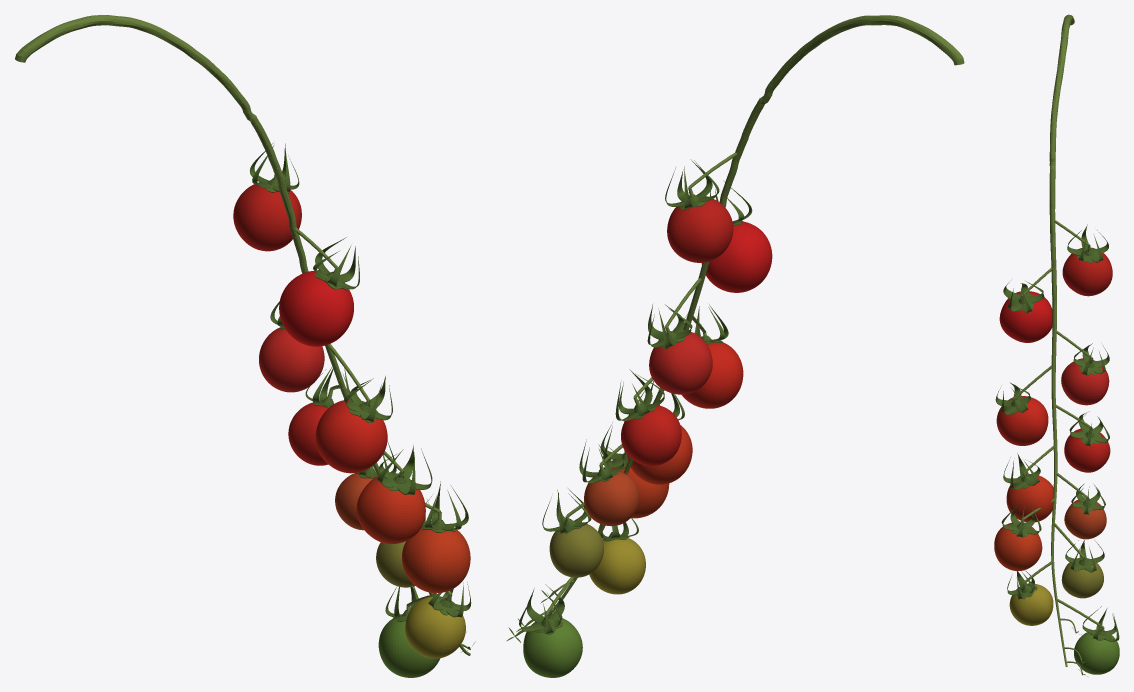
File: tomato_master_v10_cluster_curve_green.glb
3 views of the same model, side by side, from view 1: azimuth 30°, elevation 25°; view 2: azimuth 150°, elevation 25°; view 3: azimuth 270°, elevation 25° (orthographic). The views are drawn at different scales.
Parts seen in each view (by area): view 1: Fruit_02, Fruit_04, Fruit_08, Fruit_06, Fruit_01, Fruit_03, Truss_01_Peduncle, Fruit_10, Fruit_11, Rachis, Fruit_05, Fruit_07 (+1 smaller); view 2: Fruit_01, Fruit_02, Fruit_03, Fruit_05, Fruit_11, Truss_01_Peduncle, Fruit_10, Fruit_07, Fruit_09, Fruit_04, Rachis, Fruit_06 (+1 smaller); view 3: Rachis, Fruit_02, Fruit_04, Fruit_01, Fruit_08, Fruit_06, Fruit_03, Fruit_11, Fruit_05, Fruit_10, Fruit_07, Truss_01_Peduncle (+1 smaller).
Boxes of the visible parts, x1,y1,x2,y2 form: Fruit_02: [279, 270, 353, 346]; Fruit_04: [315, 399, 387, 473]; Fruit_08: [402, 528, 470, 593]; Fruit_06: [356, 476, 425, 544]; Fruit_01: [233, 184, 301, 251]; Fruit_03: [259, 328, 324, 392]; Truss_01_Peduncle: [15, 15, 252, 119]; Fruit_10: [405, 596, 465, 658]; Fruit_11: [378, 618, 440, 677]; Rachis: [246, 113, 470, 655]; Fruit_05: [288, 402, 328, 465]; Fruit_07: [335, 473, 372, 530]; Fruit_01: [667, 199, 733, 262]; Fruit_02: [701, 221, 772, 292]; Fruit_03: [649, 330, 712, 394]; Fruit_05: [621, 405, 681, 466]; Fruit_11: [523, 618, 582, 677]; Truss_01_Peduncle: [763, 15, 964, 102]; Fruit_10: [589, 538, 645, 594]; Fruit_07: [584, 471, 639, 526]; Fruit_09: [549, 522, 603, 577]; Fruit_04: [681, 342, 743, 408]; Rachis: [548, 96, 767, 616]; Fruit_06: [627, 425, 692, 484]; Rachis: [1049, 165, 1067, 666]; Fruit_02: [999, 291, 1052, 342]; Fruit_04: [996, 396, 1048, 445]; Fruit_01: [1062, 248, 1112, 296]; Fruit_08: [994, 522, 1042, 571]; Fruit_06: [1006, 475, 1053, 522]; Fruit_03: [1061, 358, 1109, 405]; Fruit_11: [1074, 632, 1119, 674]; Fruit_05: [1064, 428, 1110, 472]; Fruit_10: [1009, 584, 1053, 625]; Fruit_07: [1064, 499, 1106, 539]; Truss_01_Peduncle: [1049, 14, 1074, 165].
Bounding box in the file's own units: 0.3801 × 0.5859 × 0.1253.
